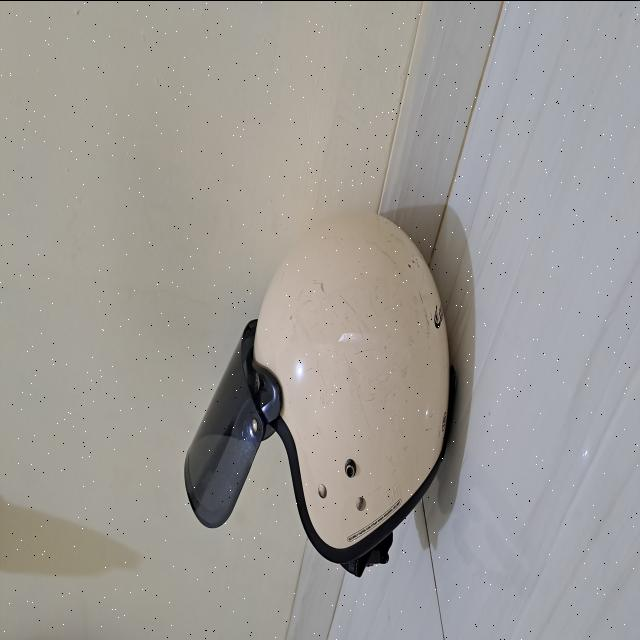Helmet: (184, 208, 454, 577)
